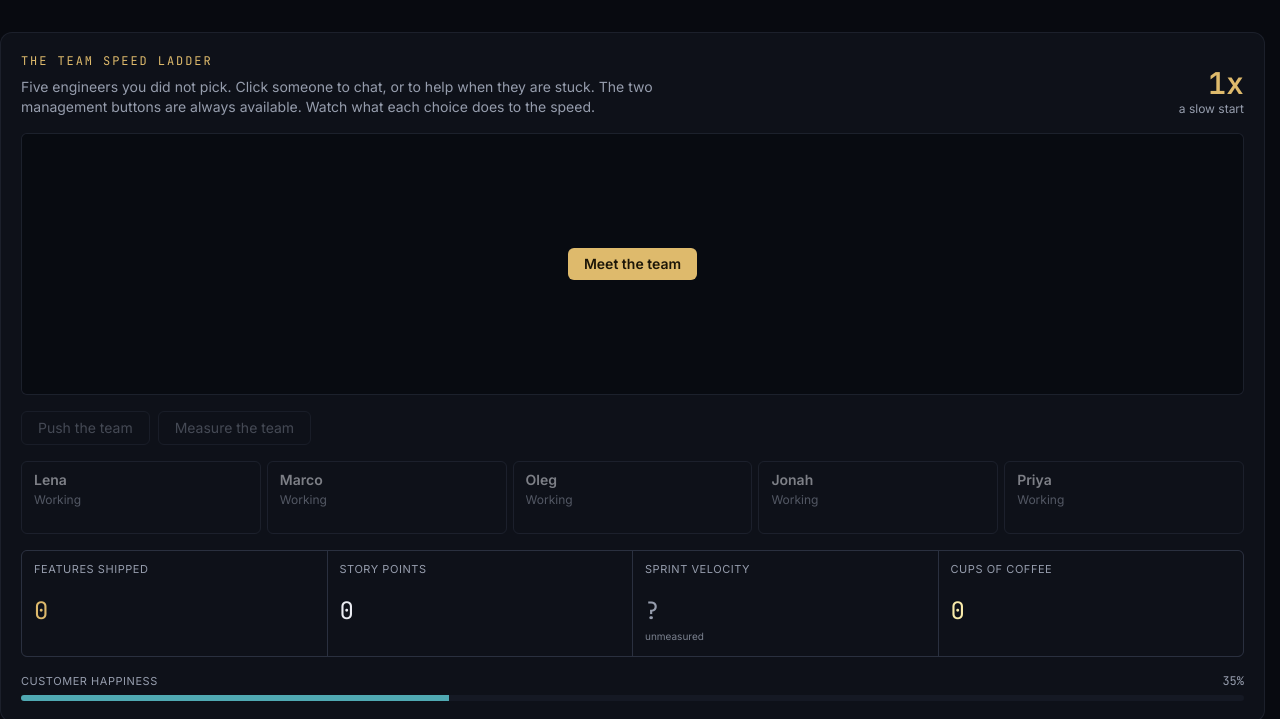
Test: TeamGame › starts, then pushes the team and shows the cost
Click the button "Meet the team" at (632, 264), box x1=568 y1=248 x2=697 y2=280
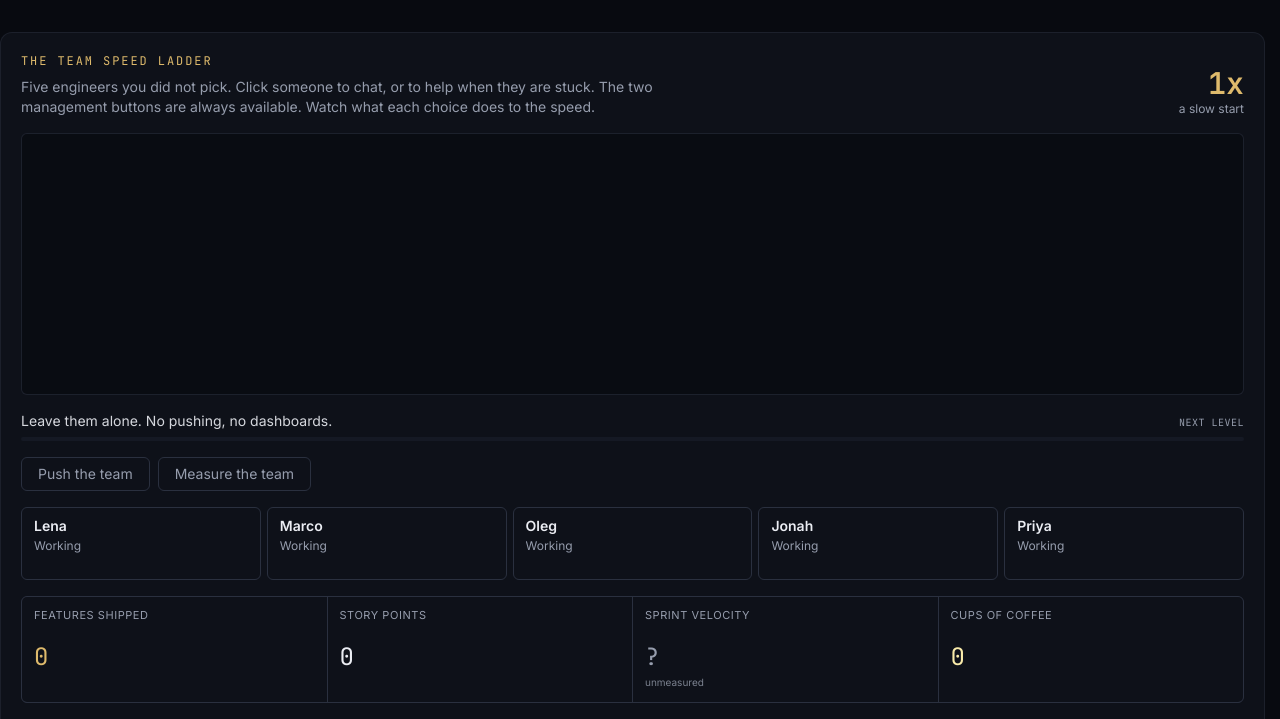
Expected: the button "Meet the team" is gone
Click the button "Push the team" at (85, 474), box x1=21 y1=457 x2=150 y2=491
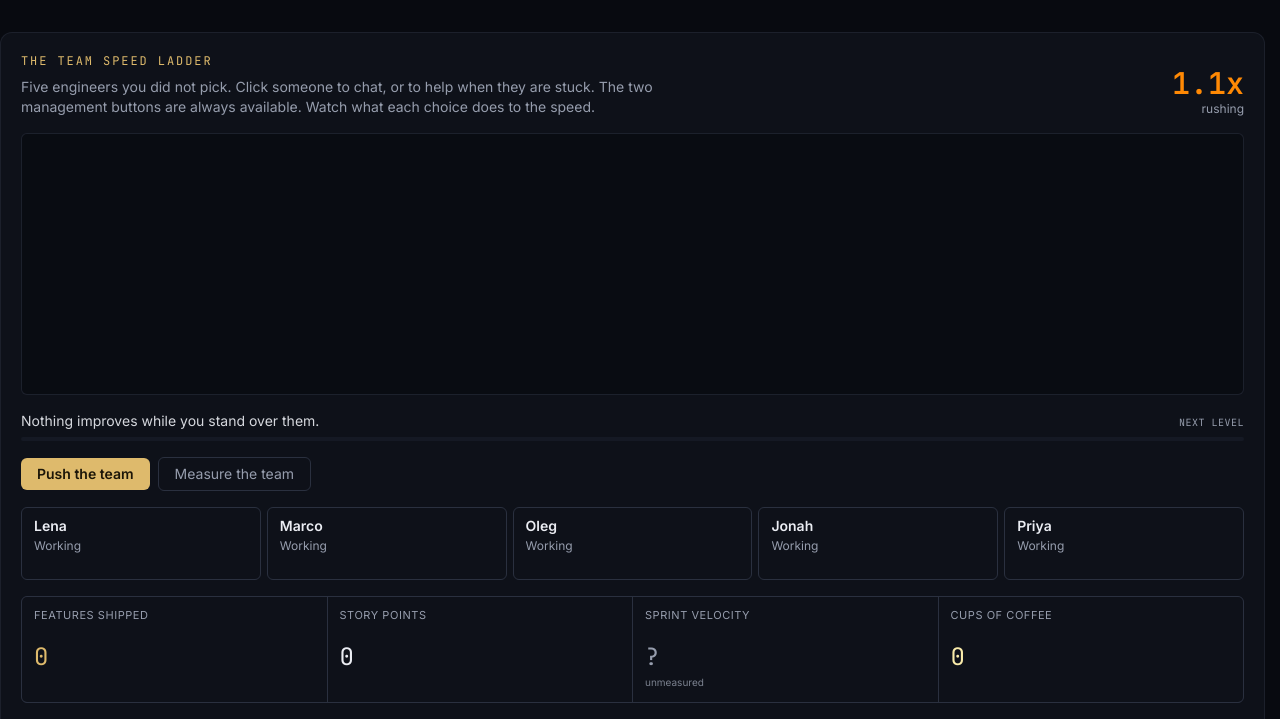
Expected: the text "1.1x" is shown, x1=1172 y1=65 x2=1244 y2=101
Expected: the text "rushing" is shown, x1=1202 y1=101 x2=1244 y2=116
Expected: the text "Nothing improves while you stand over them." is shown, x1=21 y1=411 x2=319 y2=431
